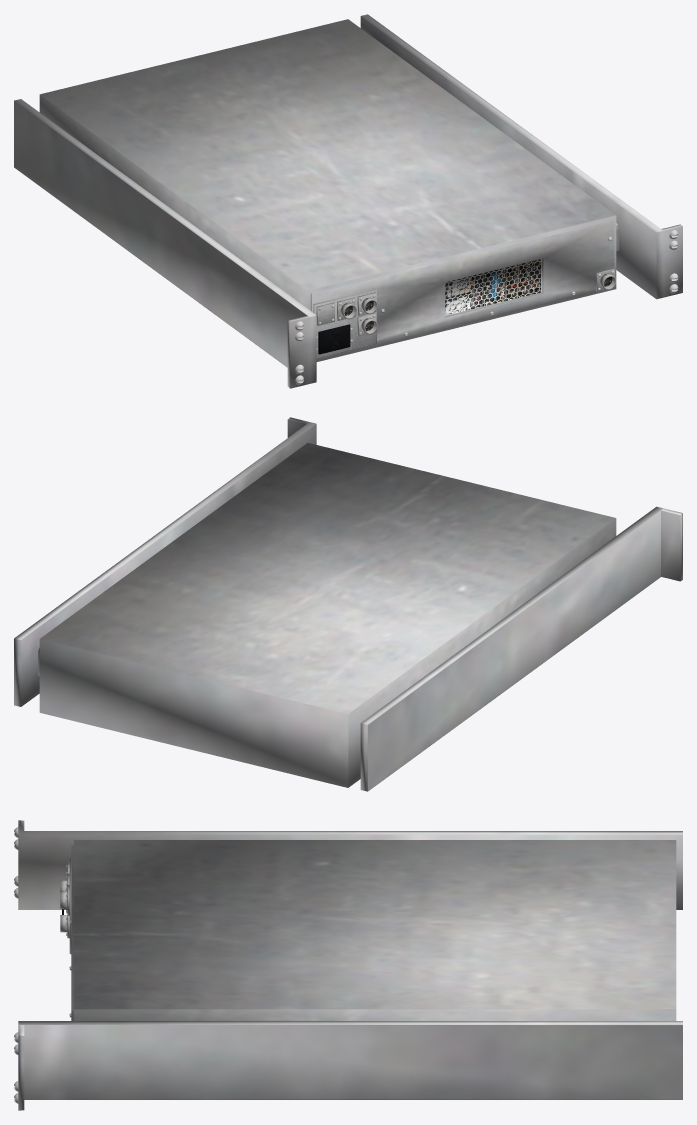
The model's file is InterfaceUnit.obj.
3 renders of one model, top to bottom at view 1: azimuth 30°, elevation 25°; view 2: azimuth 150°, elevation 25°; view 3: azimuth 270°, elevation 25°, orthographic. The views are drawn at different scales.
Parts seen in each view (by area): view 1: InterfaceUnit.obj; view 2: InterfaceUnit.obj; view 3: InterfaceUnit.obj.
Part boxes in pixels (x1,y1,x2,y2): InterfaceUnit.obj: (14,14,682,388); InterfaceUnit.obj: (14,417,682,791); InterfaceUnit.obj: (14,820,682,1110).
Size of the model in its own units: 3.78 by 0.6787 by 4.96.
